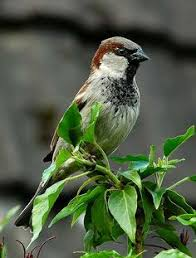hsparrow: (11, 21, 158, 249)
